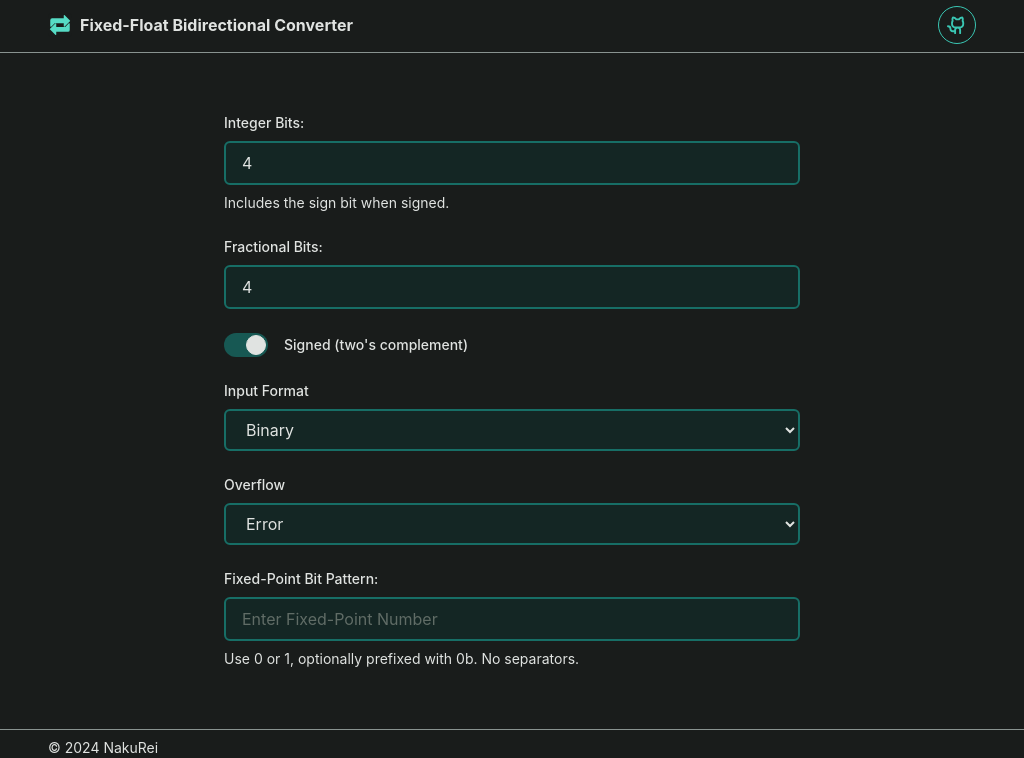
Decimal input in the converter › recalculates the result when the rounding mode changes
expect the dropdown labelled "Fixed-point rounding" is not shown: met
Select "Decimal" in the dropdown labelled "Input Format" at (512, 430), box [224,409,800,451]
(page scrolled)
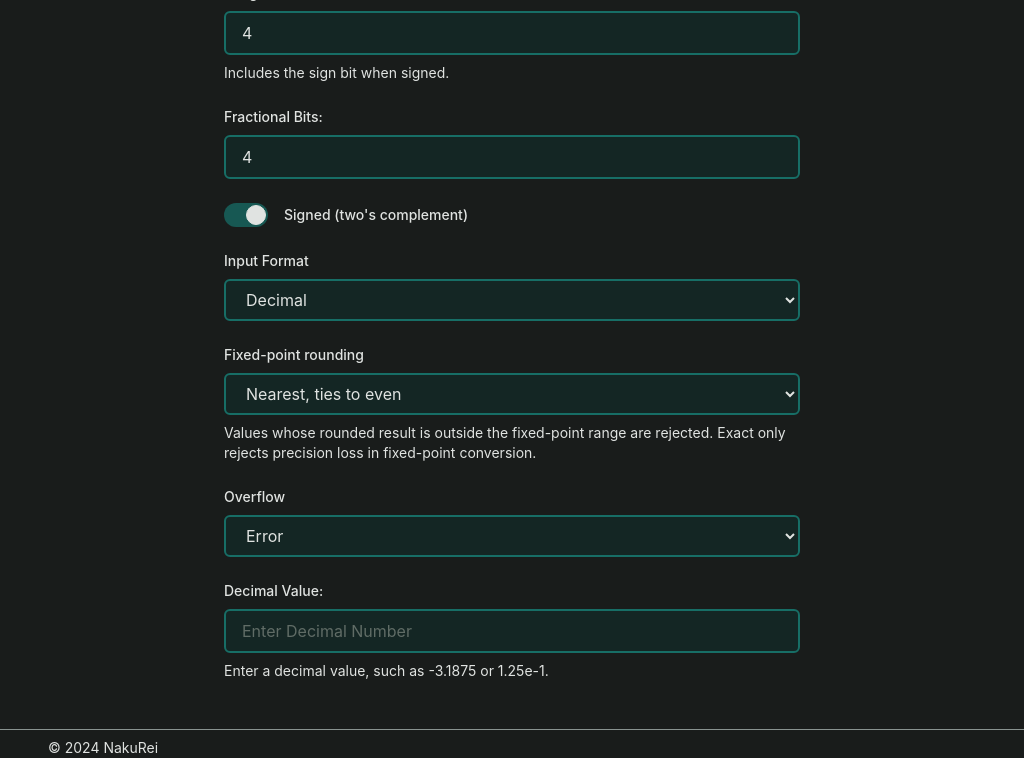
expect the dropdown labelled "Fixed-point rounding" shows "Nearest, ties to even": met, box [224,373,800,415]
Type "0.1" into the field labelled "Decimal Value:".
click(512, 631); type("0.1")  # box [224,609,800,653]
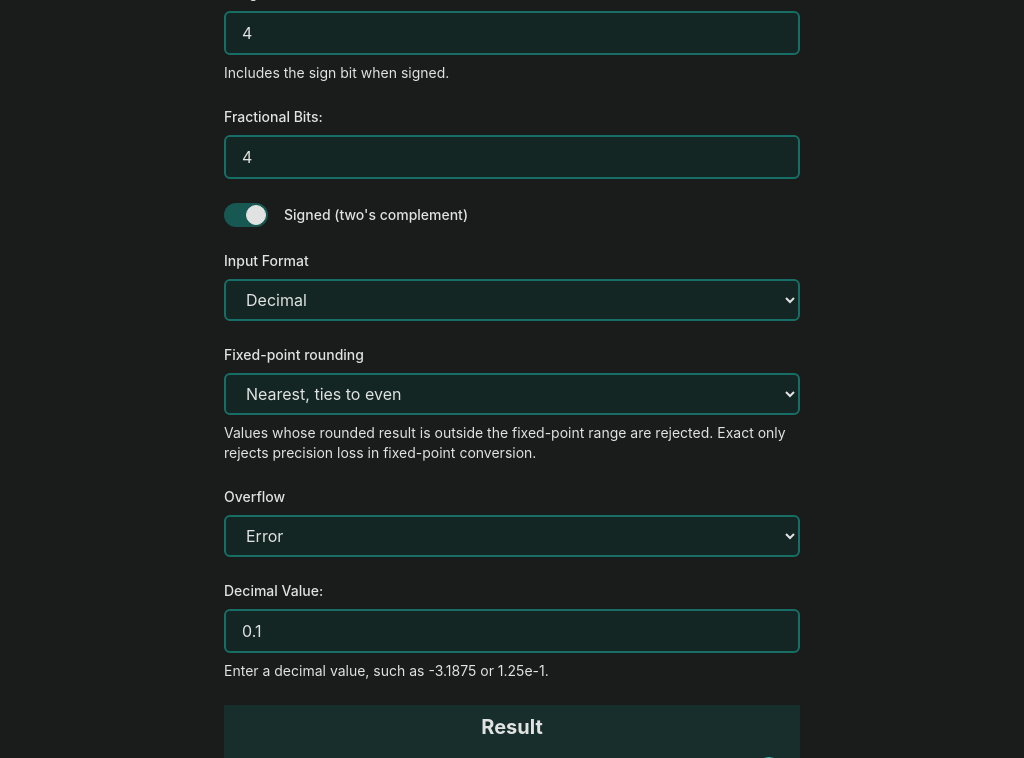
expect the text "0.125" is not shown: met
Select "Toward zero" in the dropdown labelled "Fixed-point rounding" at (512, 394), box [224,373,800,415]
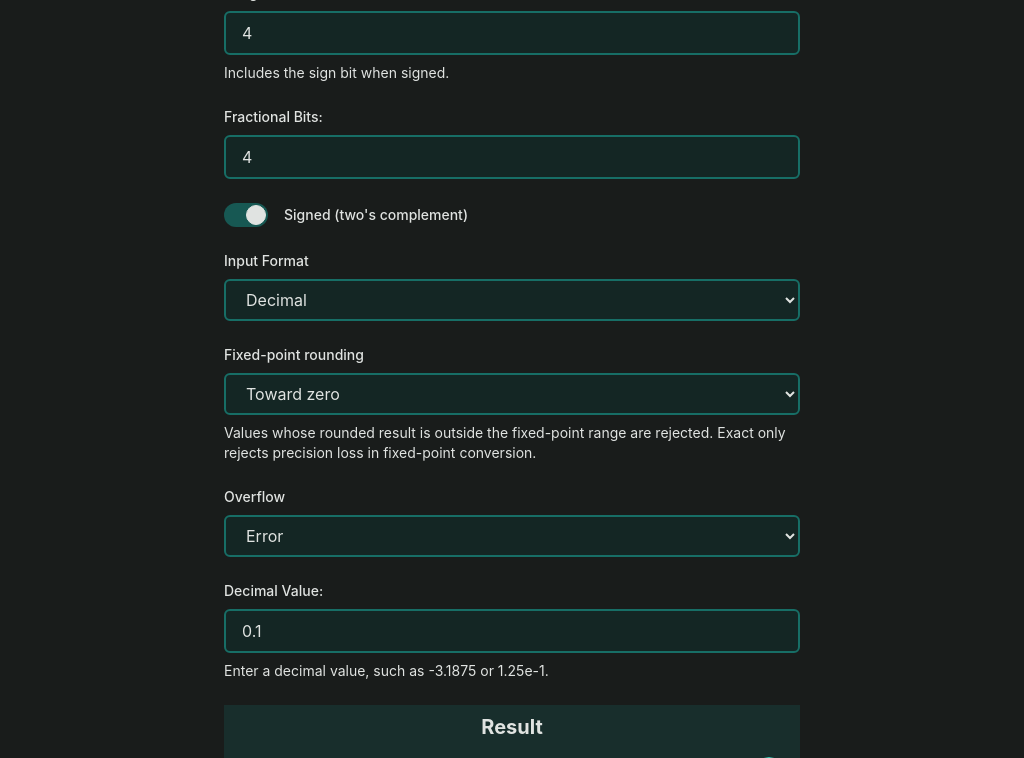
Select "Exact only (reject inexact)" in the dropdown labelled "Fixed-point rounding" at (512, 394), box [224,373,800,415]
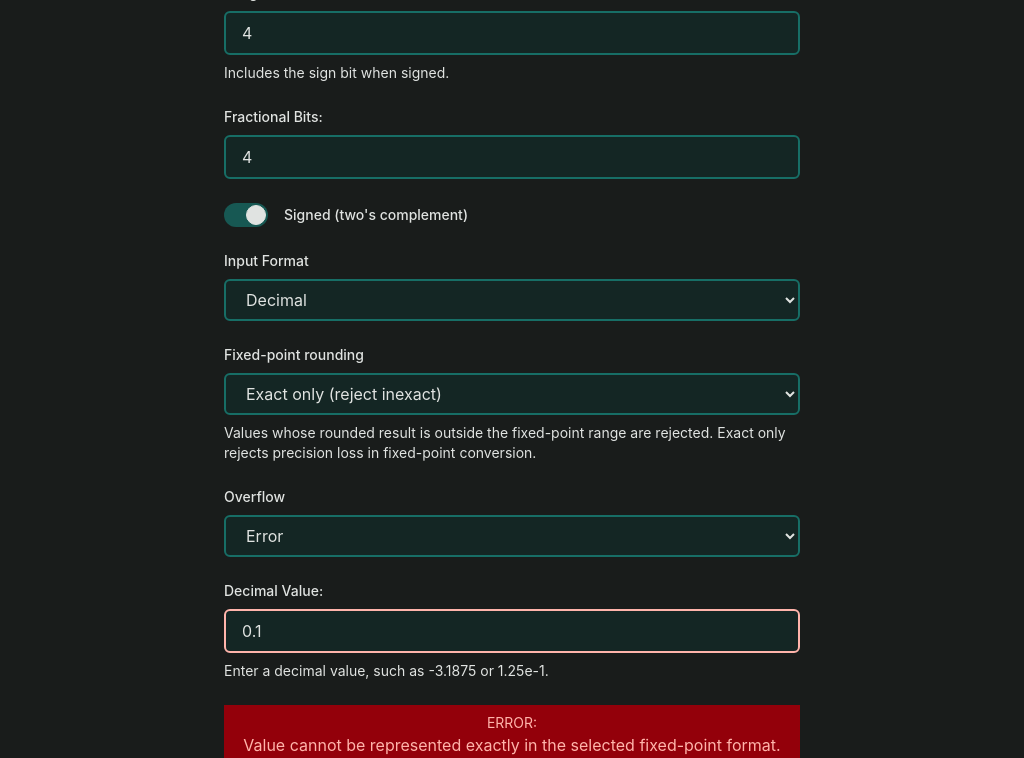
Replace the text in the field labelled "Decimal Value:" with "0.125" at (512, 631), box [224,609,800,653]
(page scrolled)
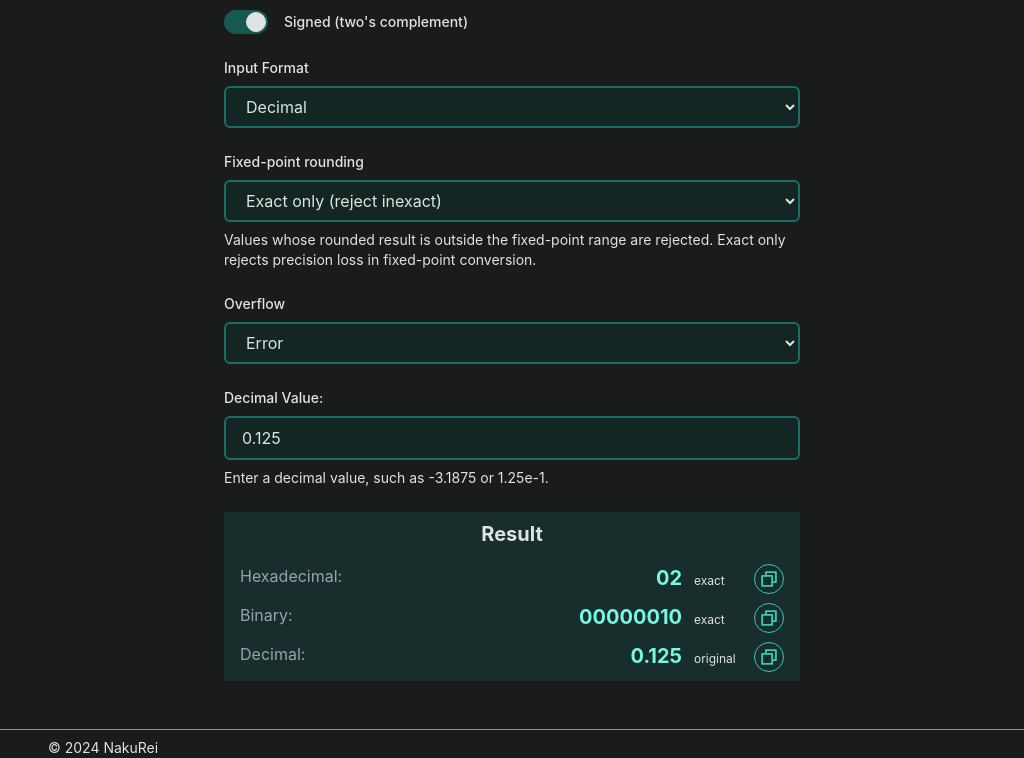
expect the text "02" is shown: met, box [656,564,682,592]
expect the text "ERROR:" is gone: met
